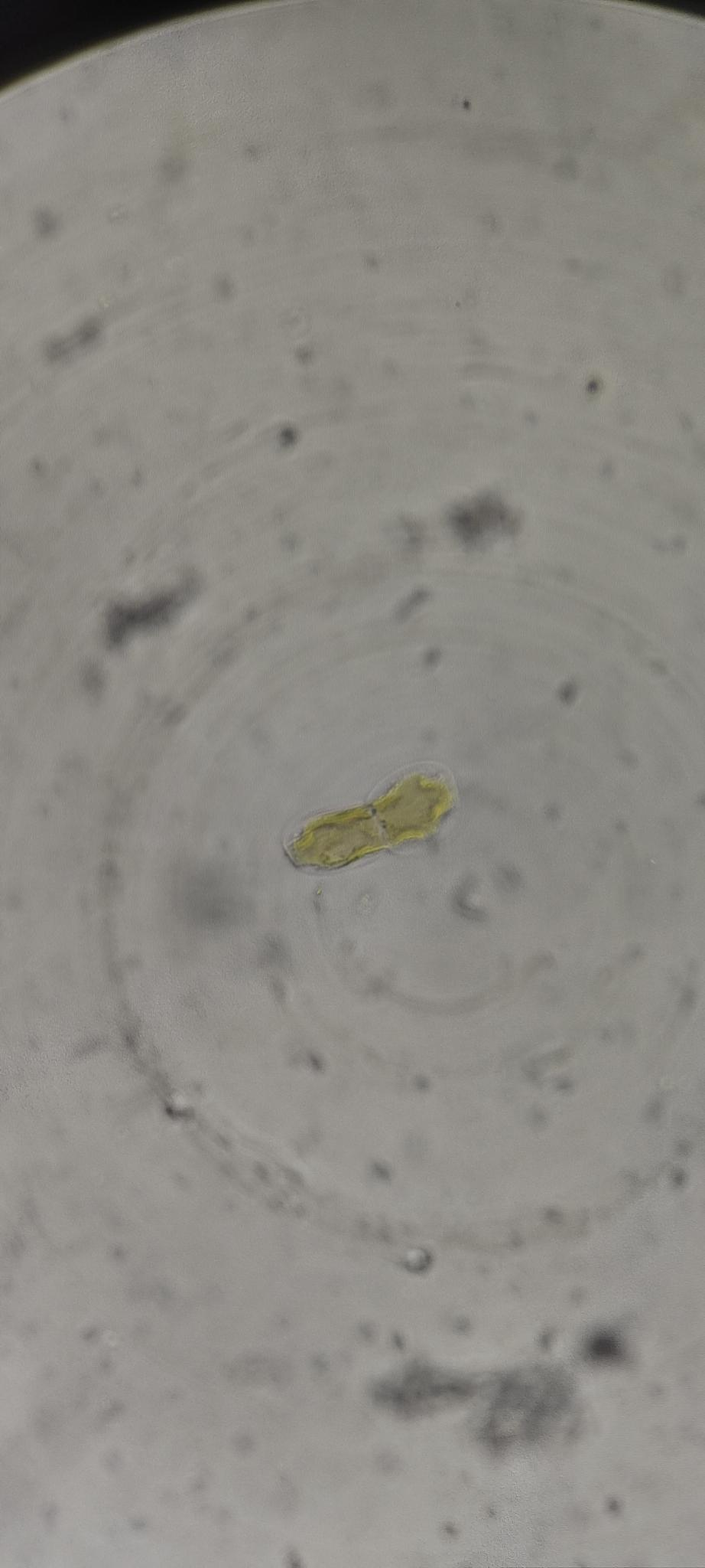Euglena: (272, 753, 466, 884)
